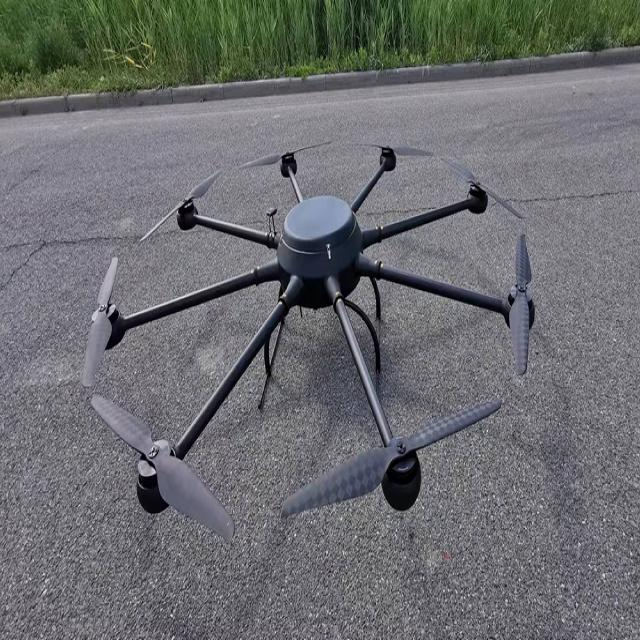drone: (4, 82, 584, 556)
